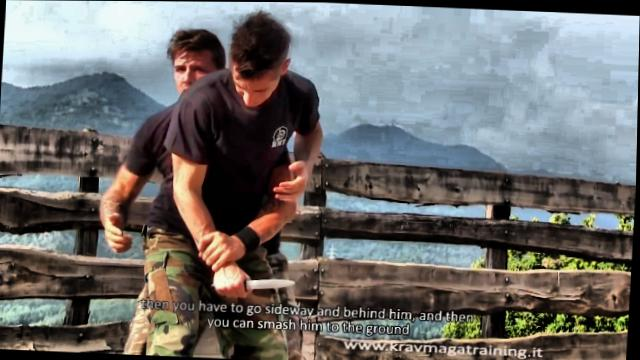knife: (210, 261, 305, 304)
